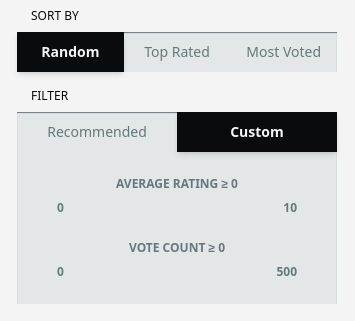
Scenario: DiscoverControls — filter interaction › switching back to 'Recommended' hides the slider panel
The image size is (355, 321).
Click the button "Recommended" at (97, 132), box [17,112,177,152]
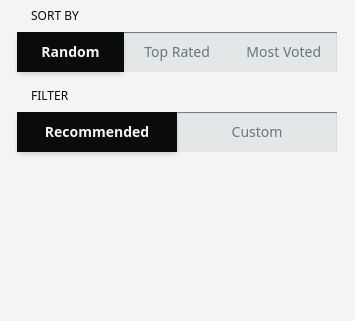
Expected: the text "Average Rating" is gone
